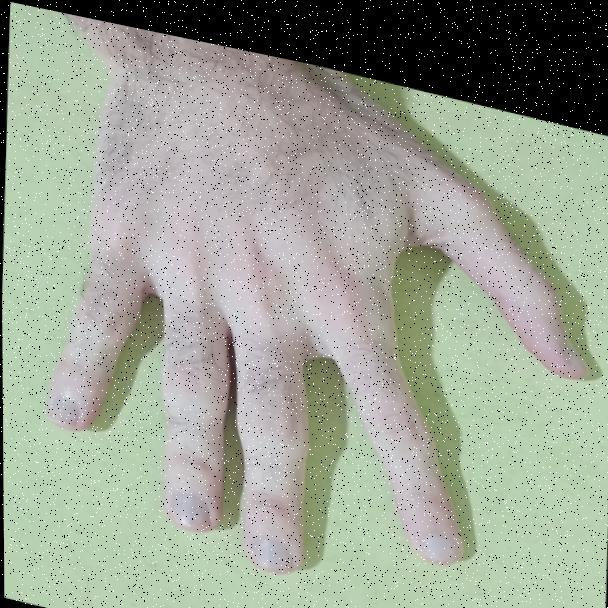five: (34, 41, 599, 608)
